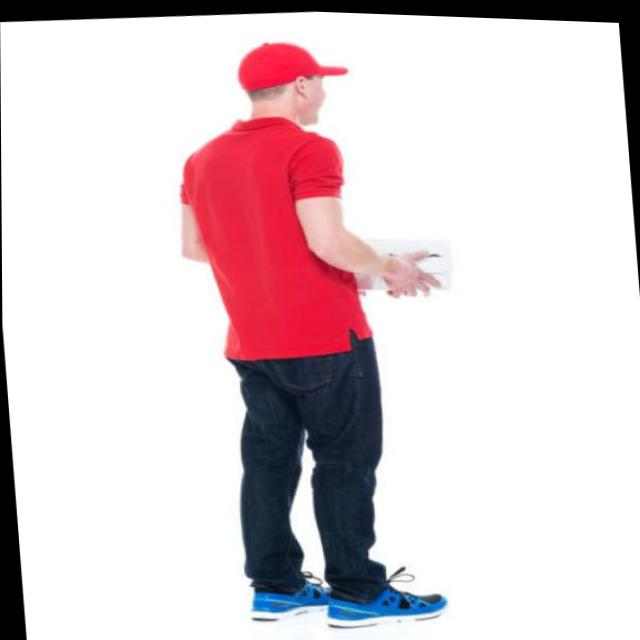no helmet: (223, 24, 347, 138)
